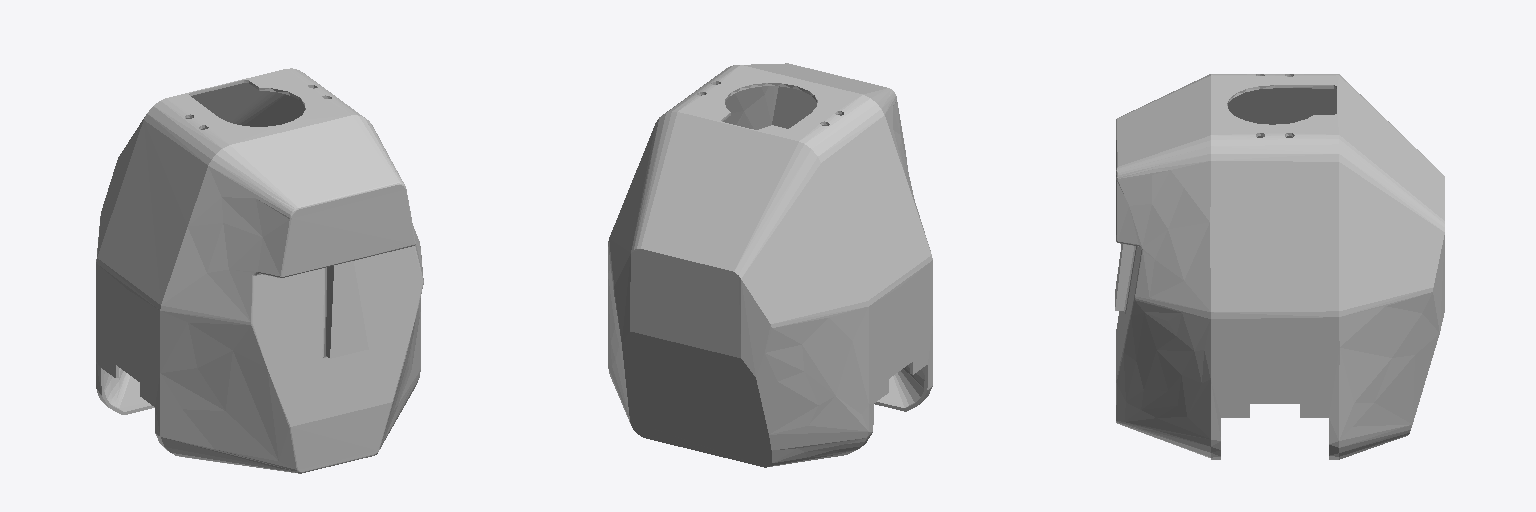
The model's file is gripper_body.obj.
3 views of the same model, side by side, from view 1: azimuth 30°, elevation 25°; view 2: azimuth 150°, elevation 25°; view 3: azimuth 270°, elevation 25° (orthographic).
Visible parts, largest first — view 1: Gripper_-_Shell_Front; view 2: Gripper_-_Shell_Front; view 3: Gripper_-_Shell_Front.
Part boxes in pixels (left/top/right/bottom): Gripper_-_Shell_Front: left=96, top=68, right=423, bottom=473; Gripper_-_Shell_Front: left=608, top=63, right=932, bottom=467; Gripper_-_Shell_Front: left=1115, top=74, right=1444, bottom=459.
Bounding box in the file's own units: 103 × 114 × 113.